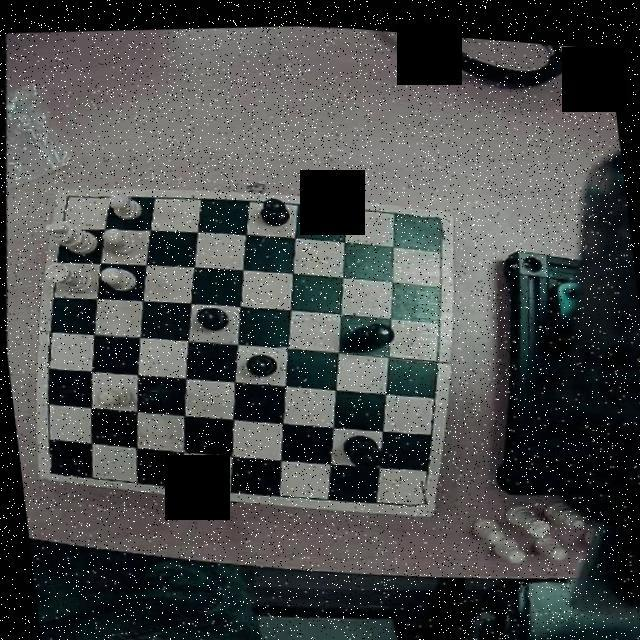chess-table-corners: (396, 470, 435, 510), (416, 198, 451, 235), (37, 448, 70, 482), (54, 184, 84, 214)
